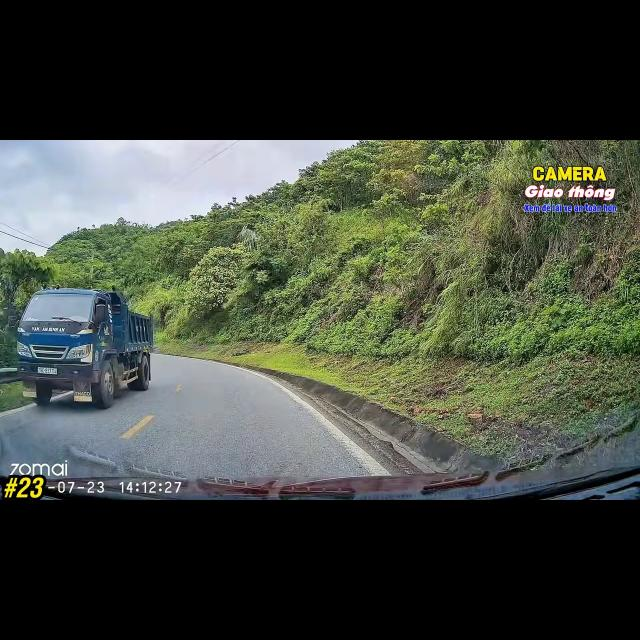truck: (17, 285, 153, 408)
